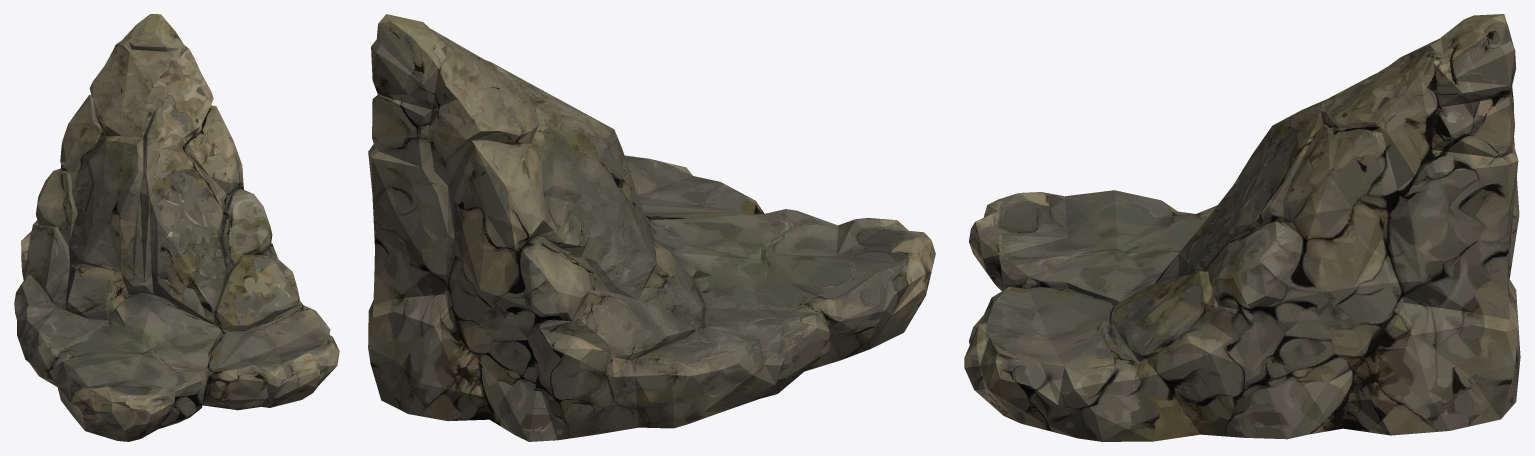
Rendered from bloc_rocheux_coin.glb.
3 views of the same model, side by side, from view 1: azimuth 30°, elevation 25°; view 2: azimuth 150°, elevation 25°; view 3: azimuth 270°, elevation 25° (orthographic). The views are drawn at different scales.
Visible parts, largest first — view 1: bloc_rocheux_coin; view 2: bloc_rocheux_coin; view 3: bloc_rocheux_coin.
Boxes of the visible parts, x1=… form: bloc_rocheux_coin: x1=14, y1=14, x2=339, y2=441; bloc_rocheux_coin: x1=368, y1=14, x2=935, y2=441; bloc_rocheux_coin: x1=964, y1=14, x2=1520, y2=441.
Bounding box in the file's own units: 1.46 × 1.41 × 1.75.
Materials: 1 (1 with a texture image).
